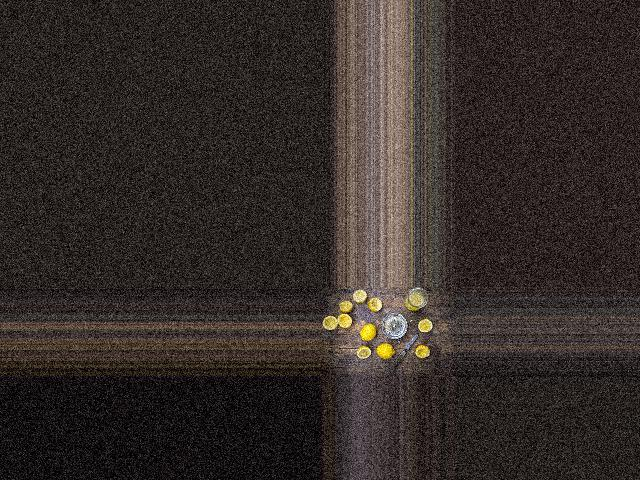lemon: (370, 341, 394, 358)
